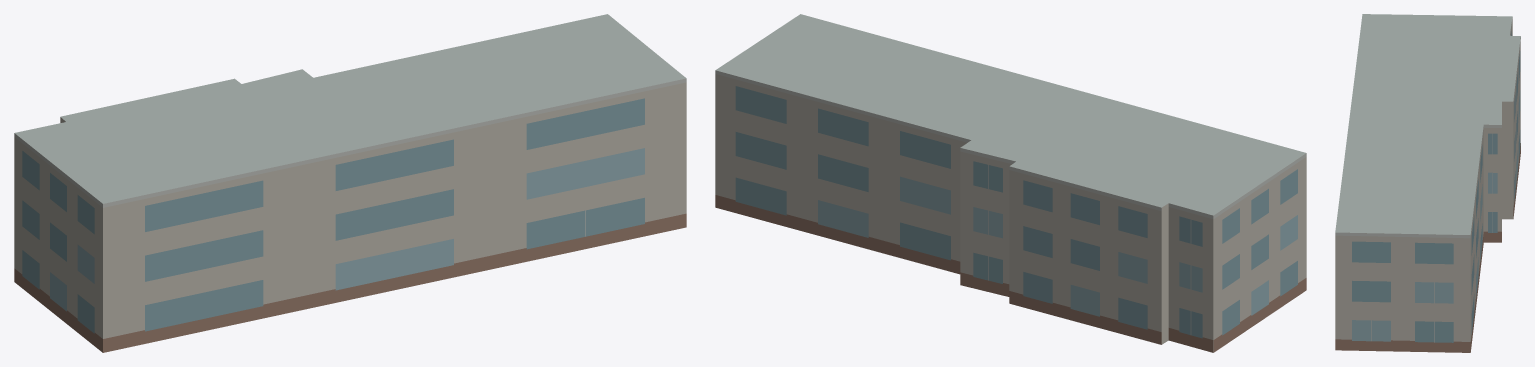
Rendered from survey-upis-32856988.glb.
3 renders of one model, left to right at view 1: azimuth 30°, elevation 25°; view 2: azimuth 150°, elevation 25°; view 3: azimuth 270°, elevation 25°, orthographic. The views are drawn at different scales.
Visible parts, largest first — view 1: survey-upis-32856988.tmp; view 2: survey-upis-32856988.tmp; view 3: survey-upis-32856988.tmp.
Part boxes in pixels (bbox=[...]): survey-upis-32856988.tmp: bbox=[14, 14, 686, 352]; survey-upis-32856988.tmp: bbox=[715, 14, 1306, 352]; survey-upis-32856988.tmp: bbox=[1335, 14, 1520, 352].
Bounding box in the file's own units: 36.85 × 9.15 × 13.08.
